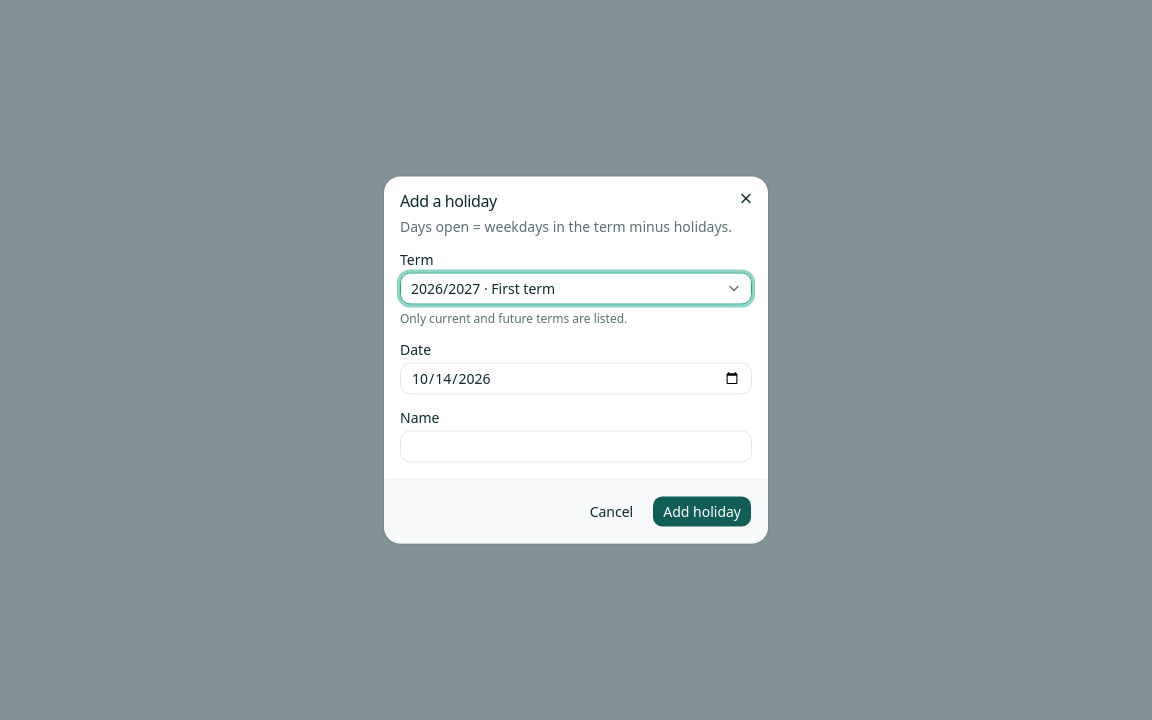
Scenario: AddHolidayDialog › asks for a name, and for a term when none is left
Click the button "Add holiday". click: click(702, 512)
box: [652,496,752,528]
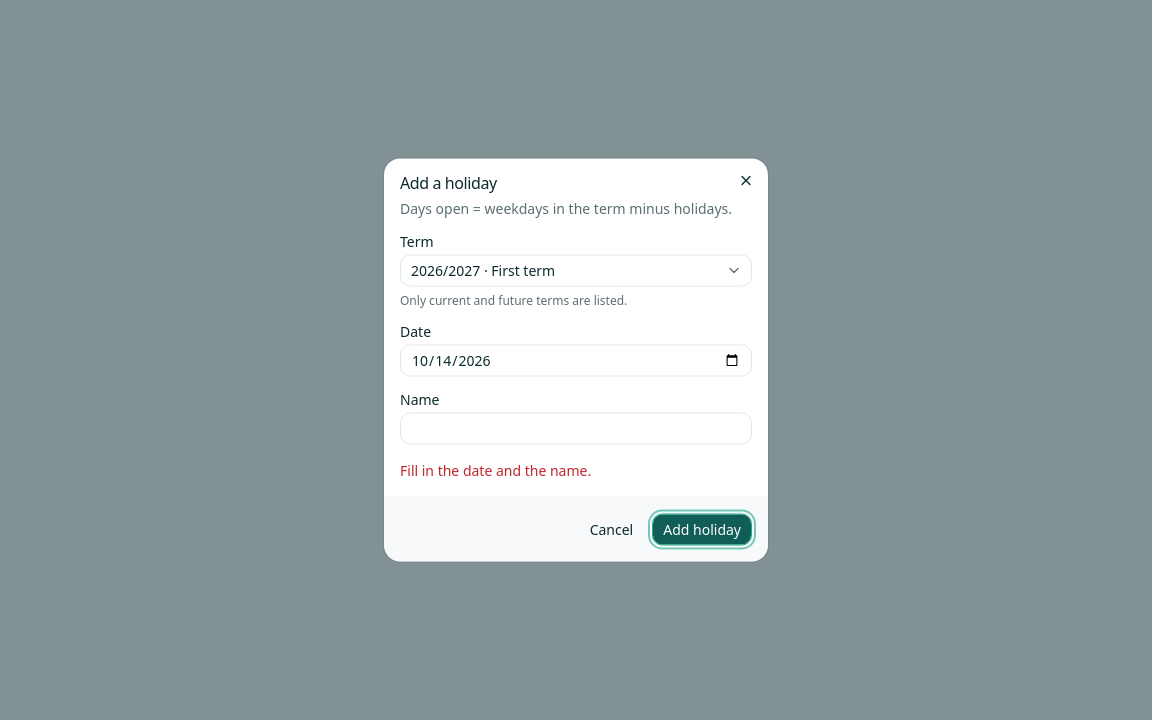
expect the message reads "Fill in the date and the name.": met, box [400,460,591,480]
